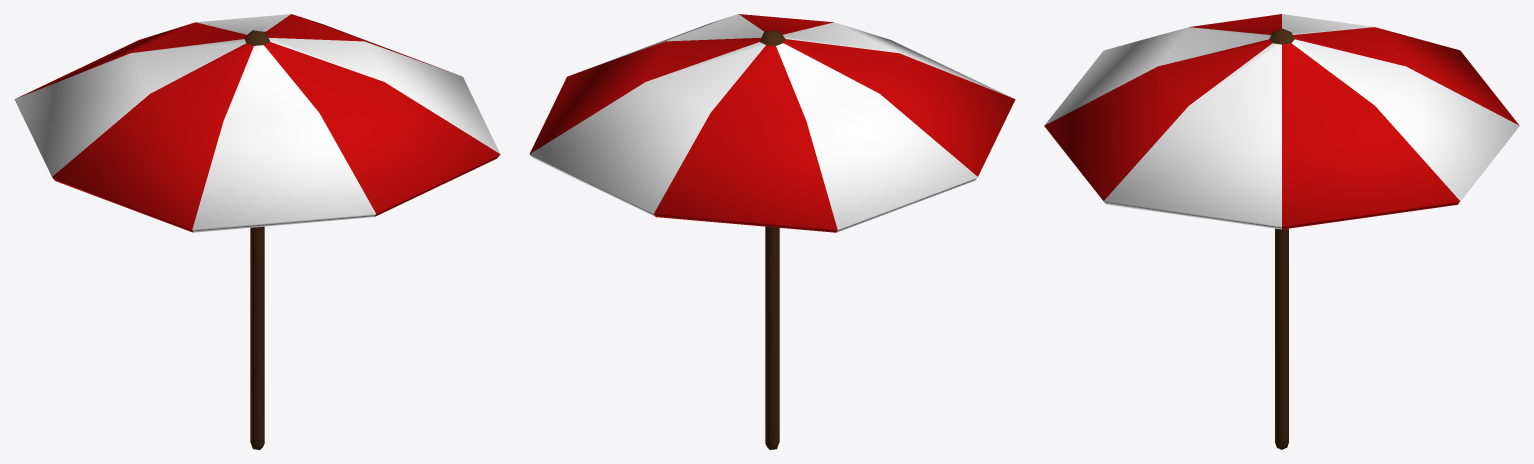
File: Umbrella001.FBX
3 renders of one model, left to right at view 1: azimuth 30°, elevation 25°; view 2: azimuth 150°, elevation 25°; view 3: azimuth 270°, elevation 25°, orthographic.
Visible parts, largest first — view 1: Box001; view 2: Box001; view 3: Box001.
Part boxes in pixels (left/top/right/bottom): Box001: left=14, top=14, right=500, bottom=449; Box001: left=529, top=14, right=1015, bottom=449; Box001: left=1044, top=14, right=1519, bottom=449.
Size of the model in its own units: 20.62 by 20.06 by 20.62.
